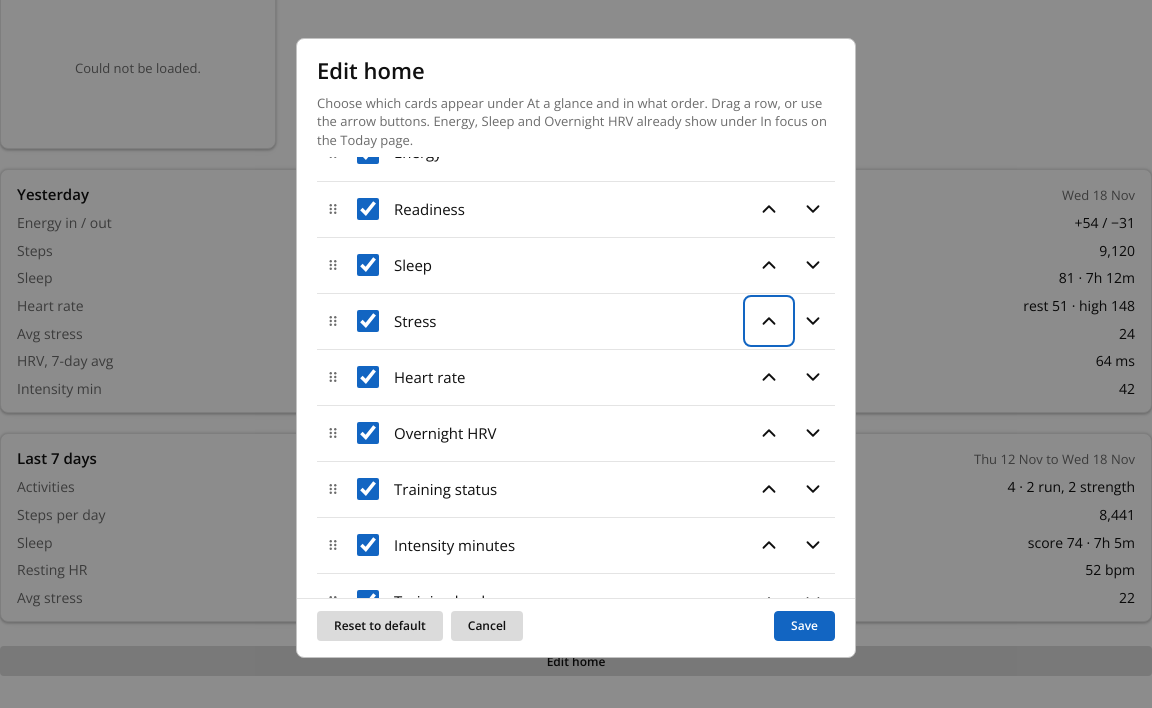
Test case: Edit home › saves with PATCH and the X-Nimrag header, and updates the cards before the server answers
The image size is (1152, 708).
Earlier steps of the test are not shown.
(page scrolled)
Click the button "Save" at (805, 626), box [774,611,835,641]
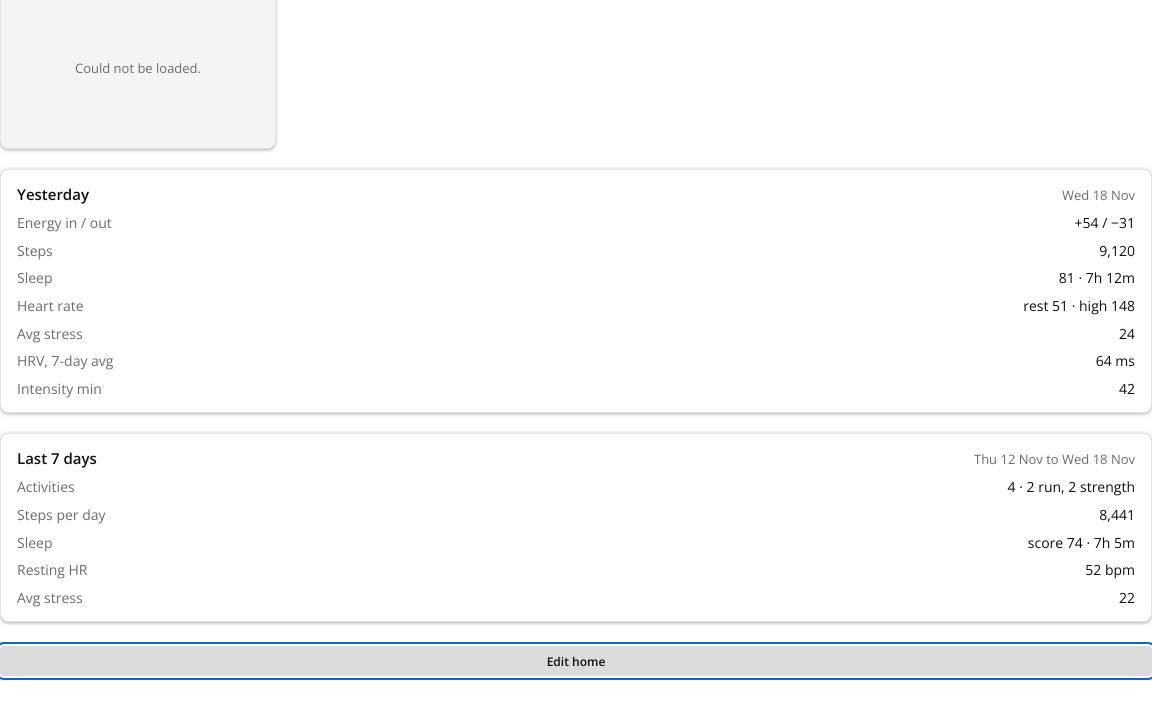
Result: the dialog is gone
